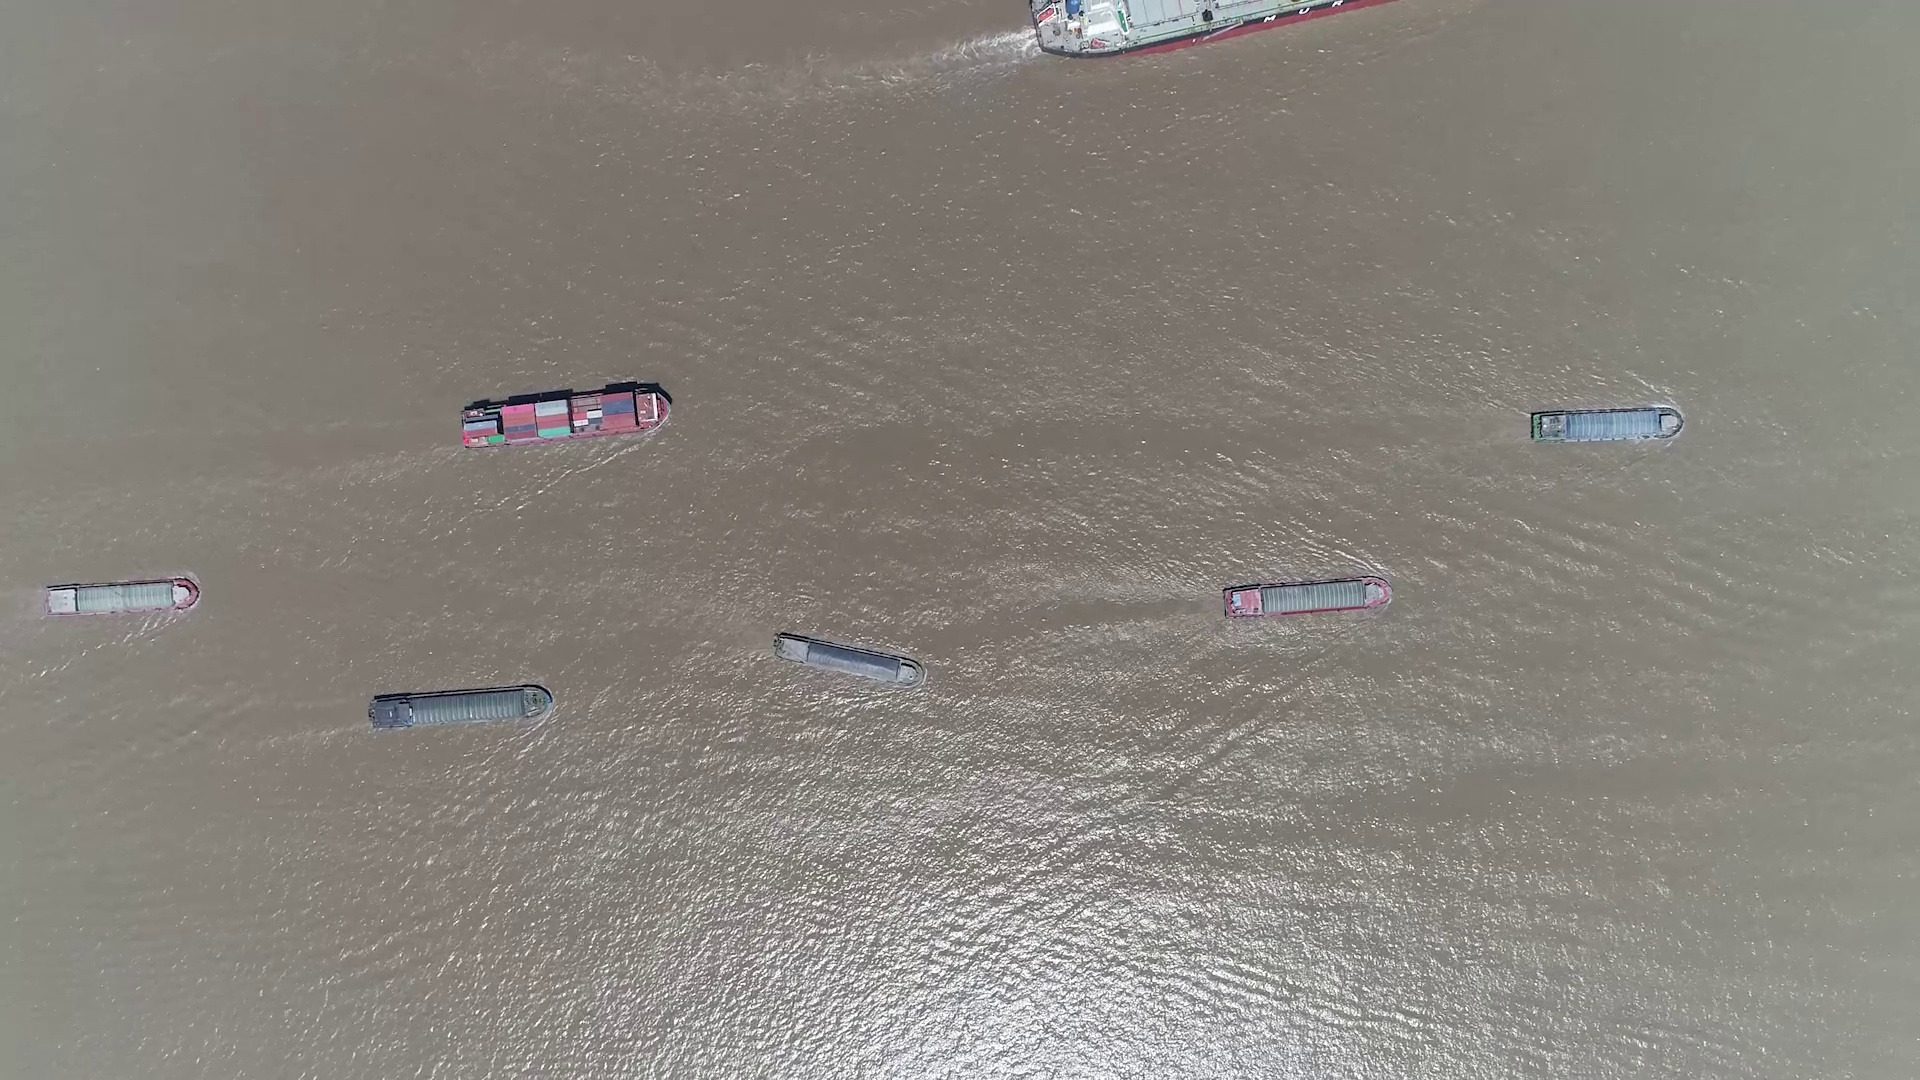ship: (1027, 1, 1389, 57), (460, 385, 673, 448), (371, 684, 553, 729), (771, 632, 920, 684), (1222, 576, 1393, 620), (44, 579, 200, 616), (1530, 406, 1685, 443)
